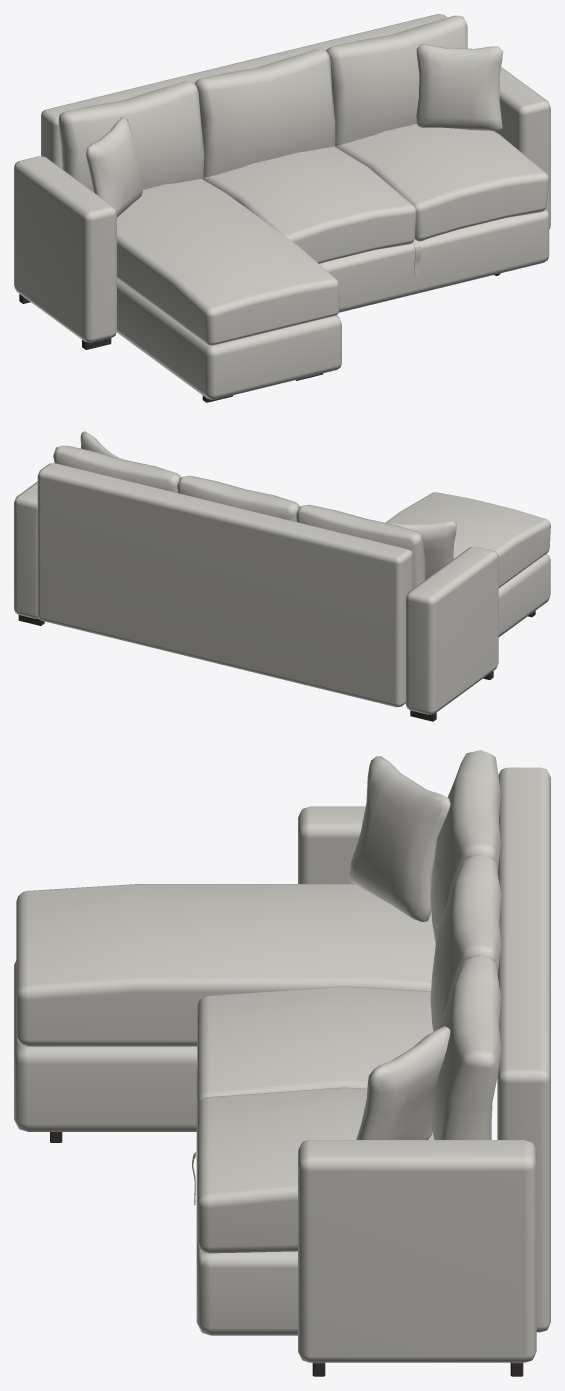
File: White_Sofa_Smooth_Fabric.glb
3 views of the same model, one above another, from view 1: azimuth 30°, elevation 25°; view 2: azimuth 150°, elevation 25°; view 3: azimuth 270°, elevation 25° (orthographic). The views are drawn at different scales.
Visible parts, largest first — view 1: White_Sofa_1; view 2: White_Sofa_1; view 3: White_Sofa_1.
Part boxes in pixels (bbox=[...]): White_Sofa_1: bbox=[14, 14, 550, 402]; White_Sofa_1: bbox=[14, 431, 550, 721]; White_Sofa_1: bbox=[14, 750, 550, 1376].
Size of the model in its own units: 2.35 by 0.9254 by 1.49.
1 material, 1 textured.
